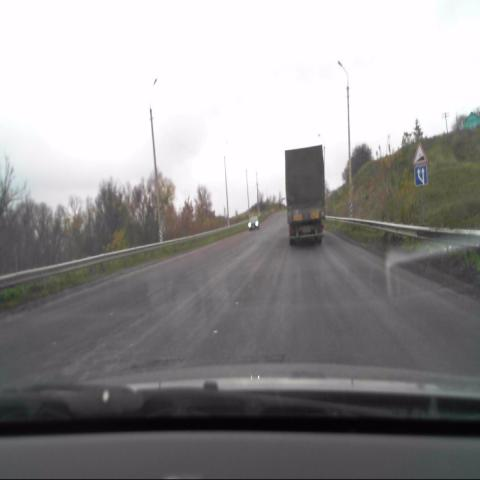1_14: (413, 142, 426, 164)
5_15_3: (414, 165, 428, 187)
